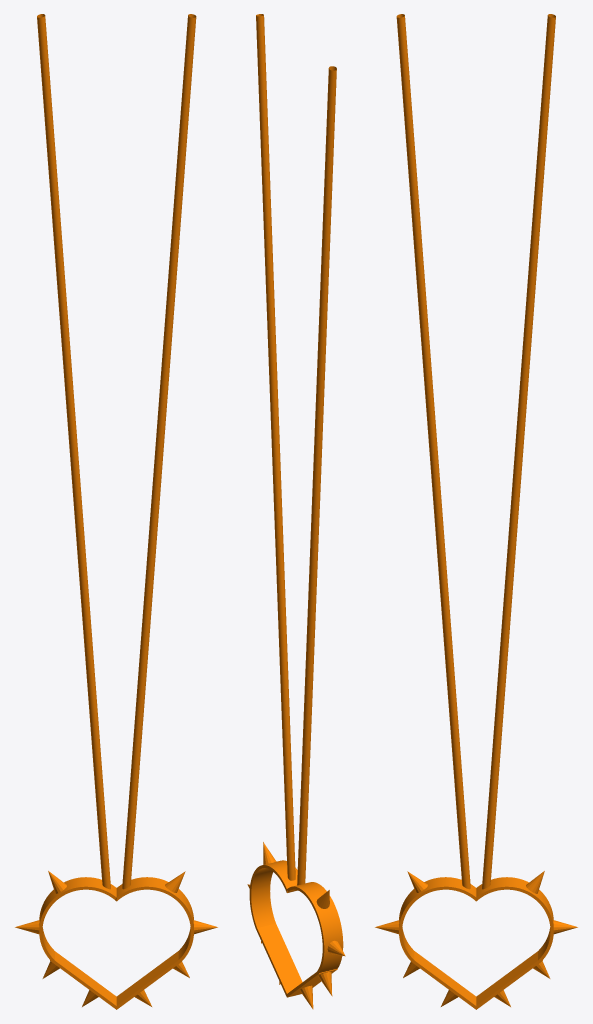
Rendered from cutter6_heart.fbx.
3 views of the same model, side by side, from view 1: azimuth 90°, elevation 25°; view 2: azimuth 210°, elevation 25°; view 3: azimuth 270°, elevation 25° (orthographic). The views are drawn at different scales.
Parts seen in each view (by area): view 1: Cutter6_Heart; view 2: Cutter6_Heart; view 3: Cutter6_Heart.
Part boxes in pixels (box(x1,y1,x2,y2)): Cutter6_Heart: box(15, 14, 217, 1009); Cutter6_Heart: box(247, 14, 345, 1009); Cutter6_Heart: box(375, 14, 577, 1009).
Size of the model in its own units: 16.8 by 809 by 151.
